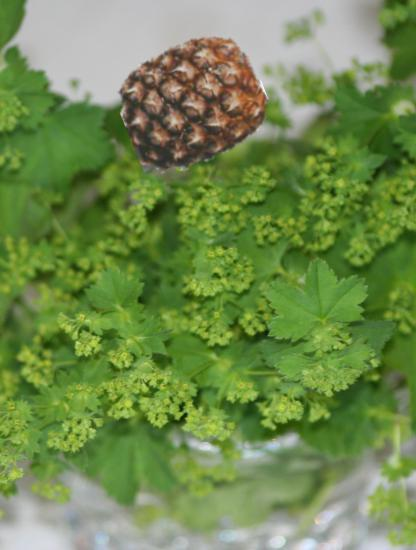Pineapple: (121, 31, 265, 175)
